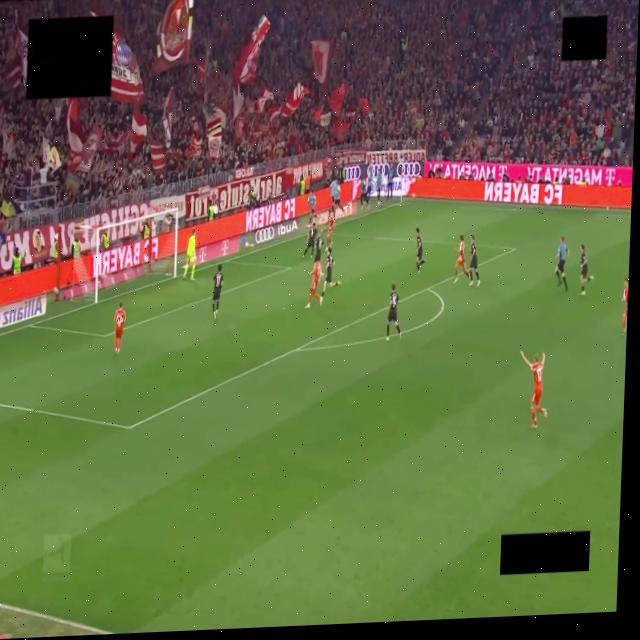player: (520, 351, 546, 429), (321, 248, 340, 296), (386, 284, 401, 341), (305, 262, 321, 308), (579, 245, 593, 296), (454, 235, 468, 282), (182, 230, 195, 279), (114, 302, 125, 353), (212, 265, 222, 318), (469, 235, 479, 286), (302, 222, 316, 257), (416, 228, 425, 273), (326, 208, 335, 248), (622, 277, 628, 336), (314, 231, 323, 262)
referee: (555, 237, 568, 291)
